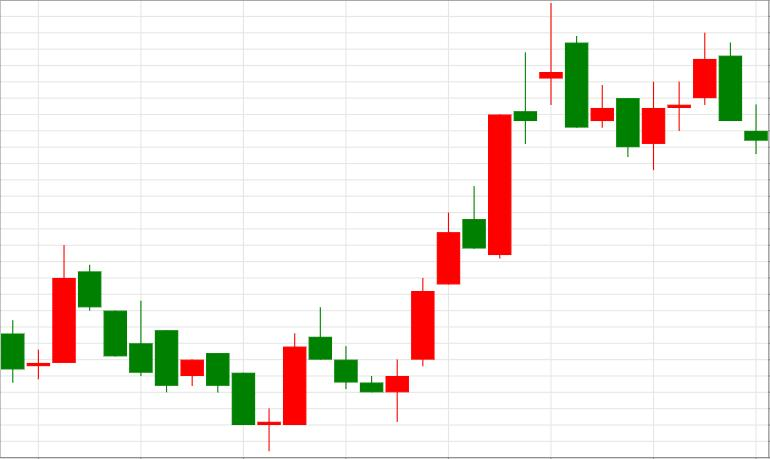morning_star_rise: (78, 265, 306, 451)
three_white_soldiers_rise: (309, 213, 460, 422)
